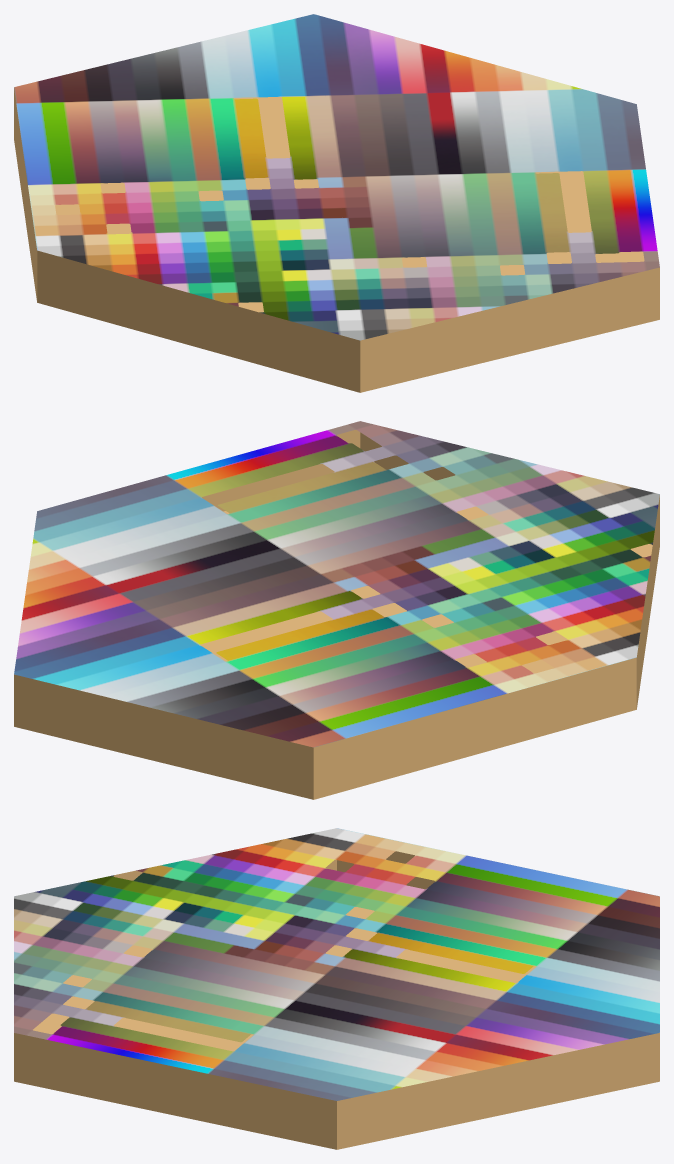
Rendered from IronFloor.fbx.
The picture shows the model from 3 angles, top to bottom: view 1: azimuth 30°, elevation 25°; view 2: azimuth 150°, elevation 25°; view 3: azimuth 270°, elevation 25°; orthographic projection. The views are drawn at different scales.
Parts seen in each view (by area): view 1: IronFloor; view 2: IronFloor; view 3: IronFloor.
Boxes of the visible parts, <box> form: IronFloor: <box>14,14,659,392</box>; IronFloor: <box>14,421,659,799</box>; IronFloor: <box>14,828,659,1149</box>.
Size of the model in its own units: 1200 by 100 by 1200.
